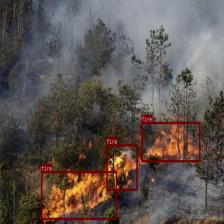fire: (41, 171, 117, 219), (141, 121, 200, 162), (106, 144, 138, 190)
